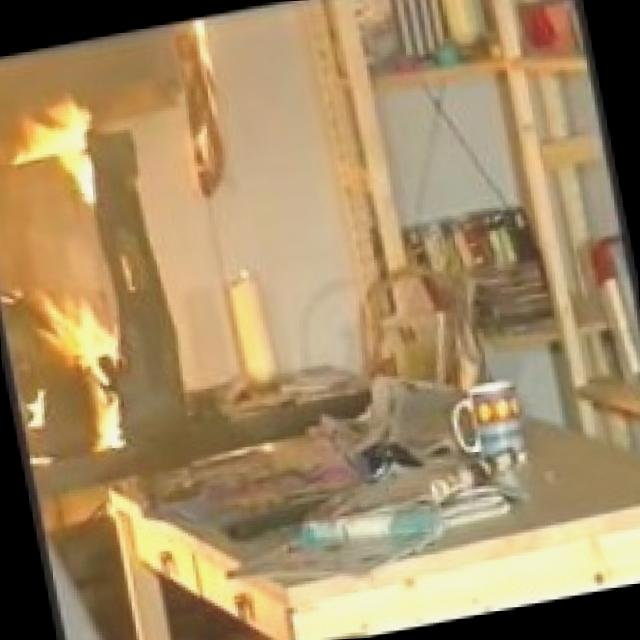fire: (0, 41, 183, 456)
